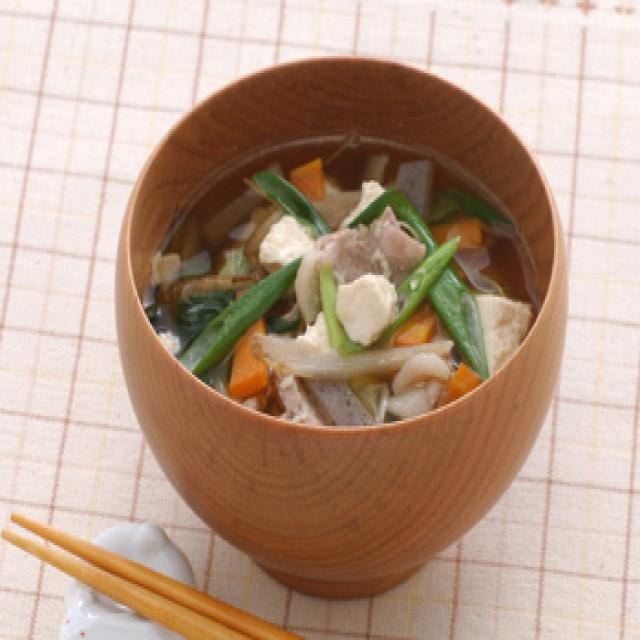蔬菜料理: (108, 44, 581, 494)
